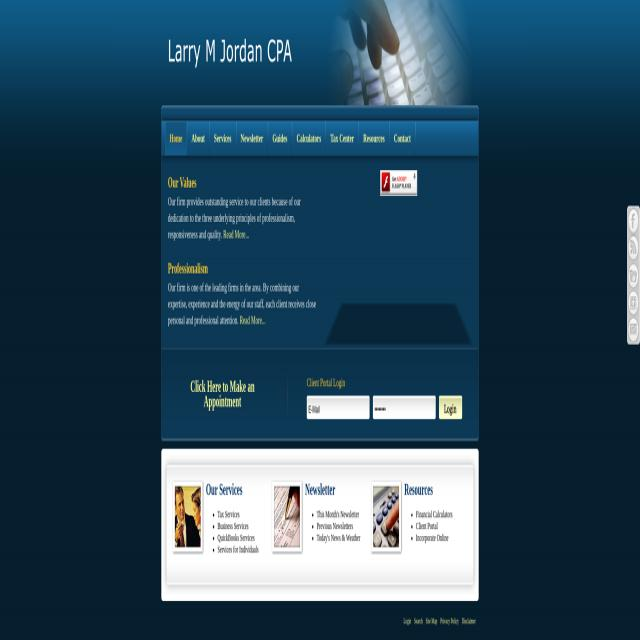button: (165, 31, 297, 74), (371, 482, 401, 552), (173, 484, 203, 552), (272, 482, 302, 550), (175, 486, 201, 547), (274, 486, 300, 547), (373, 486, 399, 547), (292, 121, 326, 156), (236, 121, 268, 156), (326, 121, 358, 156), (359, 121, 389, 156), (380, 170, 417, 196), (209, 121, 236, 156), (389, 121, 415, 156), (268, 121, 292, 156), (165, 121, 187, 156), (187, 121, 209, 156), (439, 396, 462, 419), (627, 315, 640, 343), (627, 206, 639, 236), (627, 289, 640, 315), (627, 263, 640, 288), (628, 236, 640, 263)
field: (307, 397, 369, 420), (373, 397, 436, 419)
